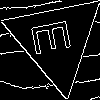E: (30, 15, 80, 57)
